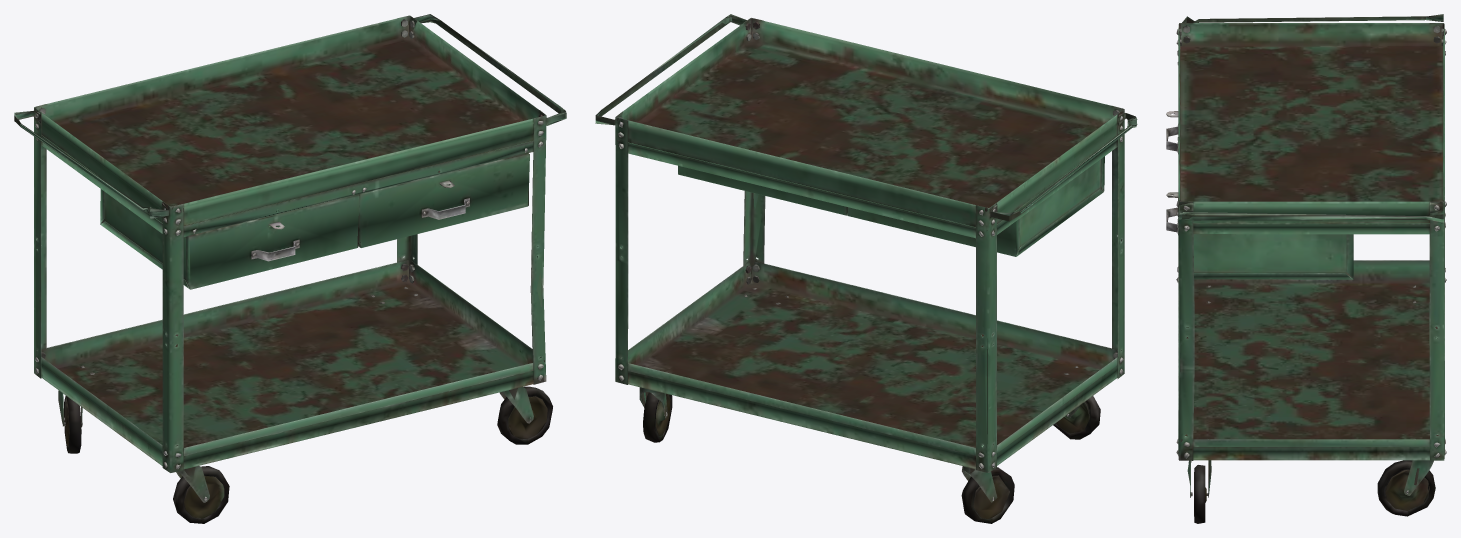
File: tool_cart.glb
3 renders of one model, left to right at view 1: azimuth 30°, elevation 25°; view 2: azimuth 150°, elevation 25°; view 3: azimuth 270°, elevation 25°, orthographic. The views are drawn at different scales.
Parts seen in each view (by area): view 1: tool_cart; view 2: tool_cart; view 3: tool_cart.
Boxes of the visible parts, x1,y1,x2,y2 form: tool_cart: [14, 14, 566, 523]; tool_cart: [595, 14, 1137, 523]; tool_cart: [1166, 14, 1446, 523].
Bounding box in the file's own units: 1.27 × 0.9619 × 0.7525.
1 material, 1 textured.
